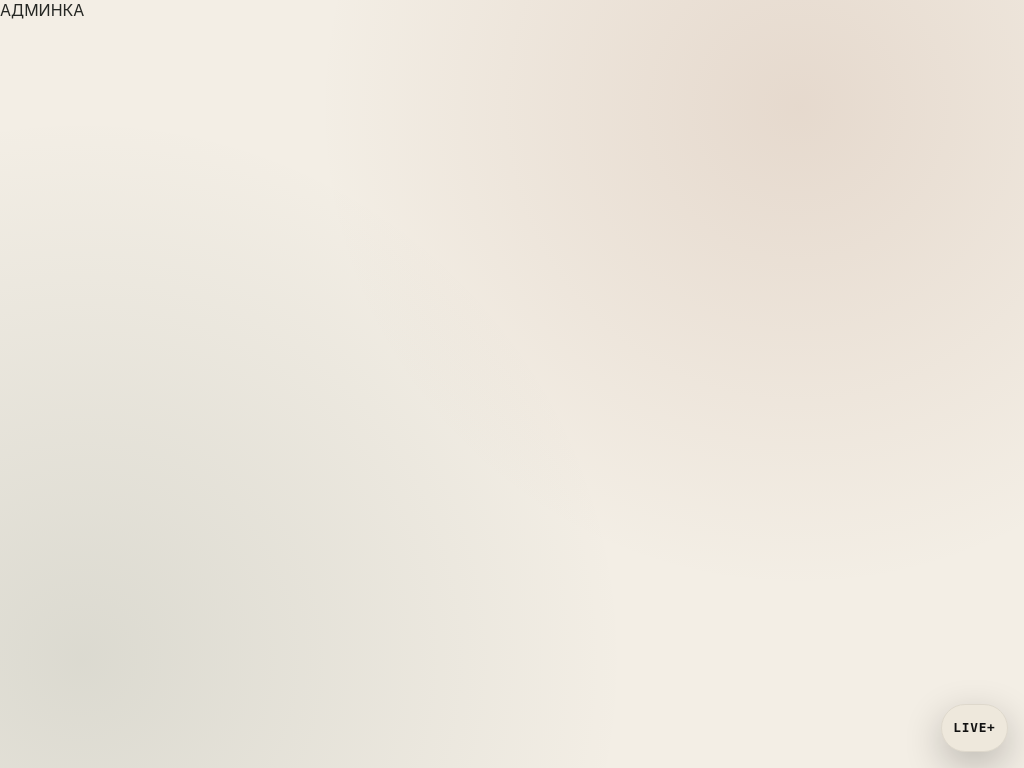
Test case: AdminWeddingLiveDock nominations › shows only derived awards and publishes them to TV
Later steps or results of the test are not shown.
Click the button with aria-label "Открыть LIVE+ пульт": (974, 728) 941,704 -> 1008,752
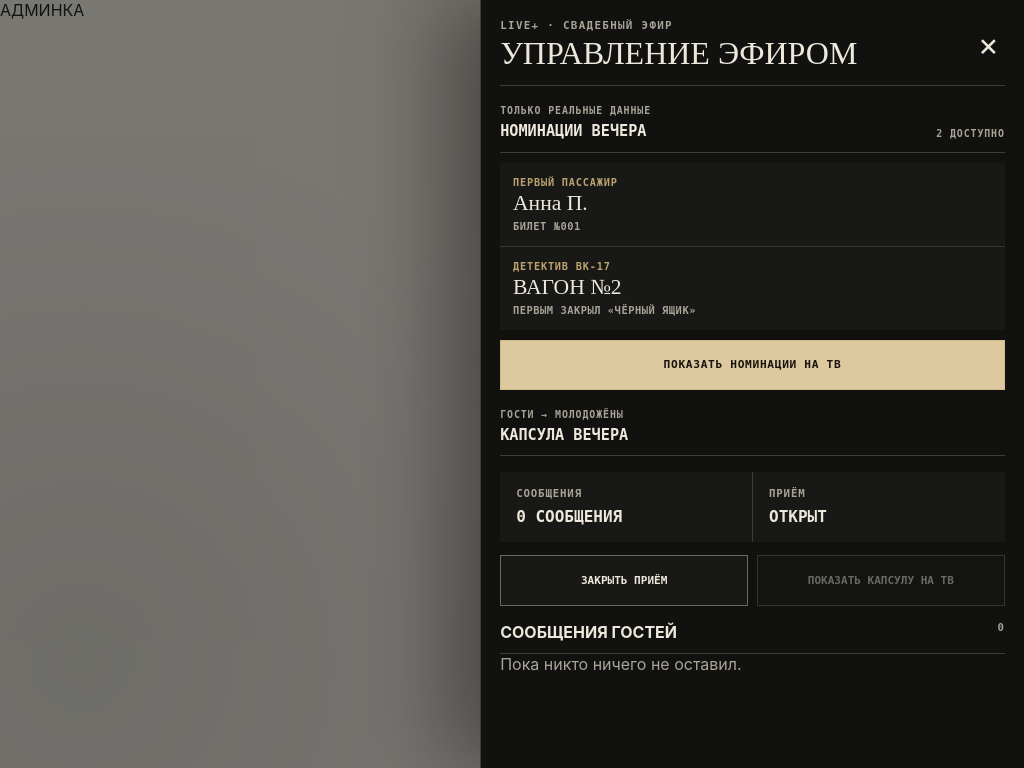
Expected: the text "ПЕРВЫЙ ПАССАЖИР" is shown, 513,176 -> 618,188
Expected: the text "Анна П." is shown, 513,191 -> 588,215
